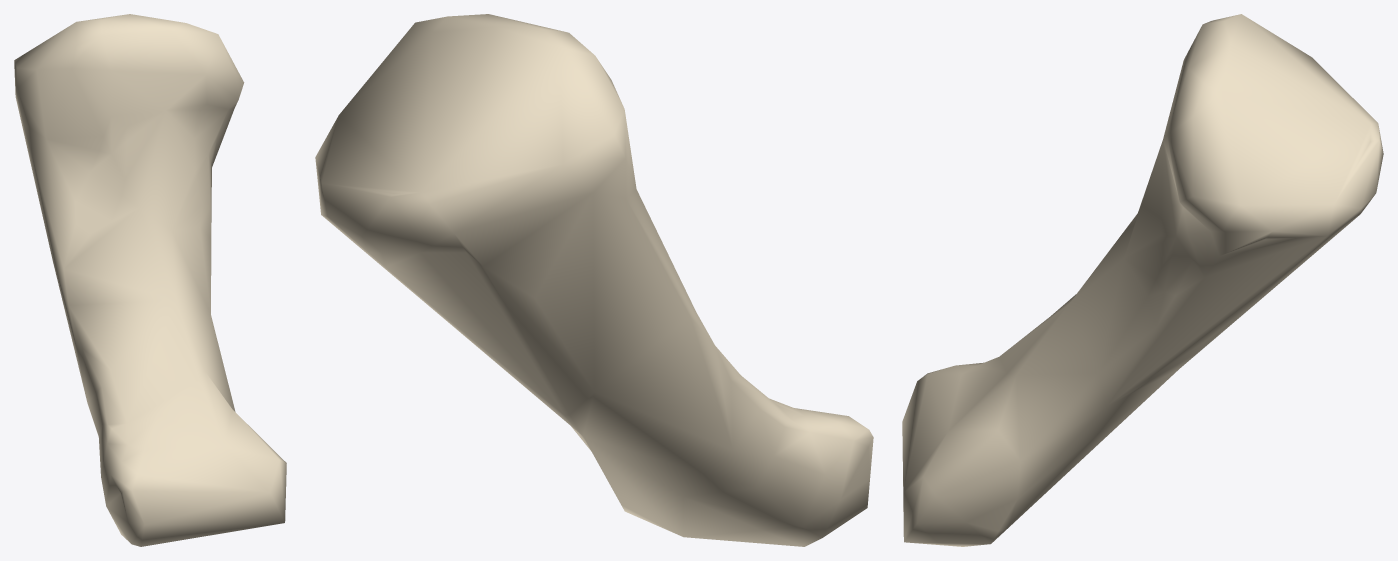
The model's file is middle-phalanx-of-fifth-finger-of-hand-l.glb.
3 renders of one model, left to right at view 1: azimuth 30°, elevation 25°; view 2: azimuth 150°, elevation 25°; view 3: azimuth 270°, elevation 25°, orthographic. The views are drawn at different scales.
Visible parts, largest first — view 1: Middle phalanx of fifth finger of hand.l; view 2: Middle phalanx of fifth finger of hand.l; view 3: Middle phalanx of fifth finger of hand.l.
Boxes of the visible parts, bbox=[...] form: Middle phalanx of fifth finger of hand.l: bbox=[14, 14, 286, 546]; Middle phalanx of fifth finger of hand.l: bbox=[315, 14, 873, 546]; Middle phalanx of fifth finger of hand.l: bbox=[902, 14, 1383, 546].
Bounding box in the file's own units: 0.0121 × 0.0205 × 0.0173.
